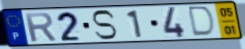1: (126, 9, 144, 39)
2: (54, 9, 84, 43)
4: (162, 5, 187, 40)
D: (188, 5, 217, 38)
R: (23, 11, 59, 43)
S: (90, 9, 119, 41)
